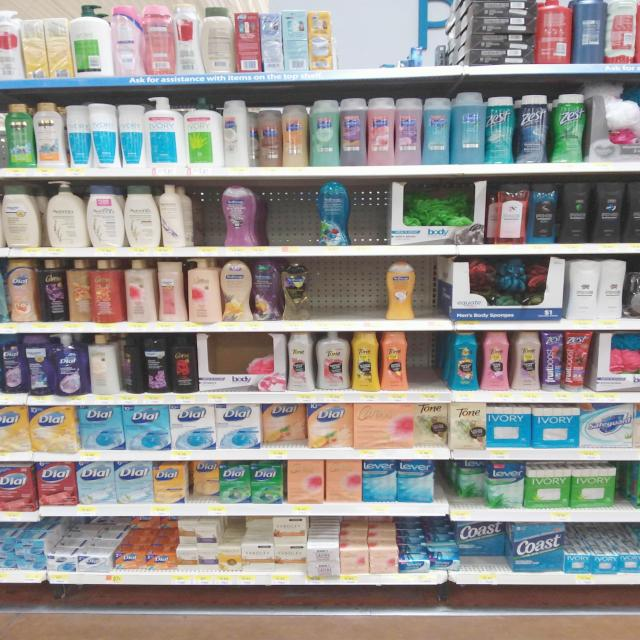empty_space: (315, 265, 373, 316), (358, 185, 383, 245), (273, 191, 303, 237), (415, 333, 437, 392), (198, 194, 215, 246)
